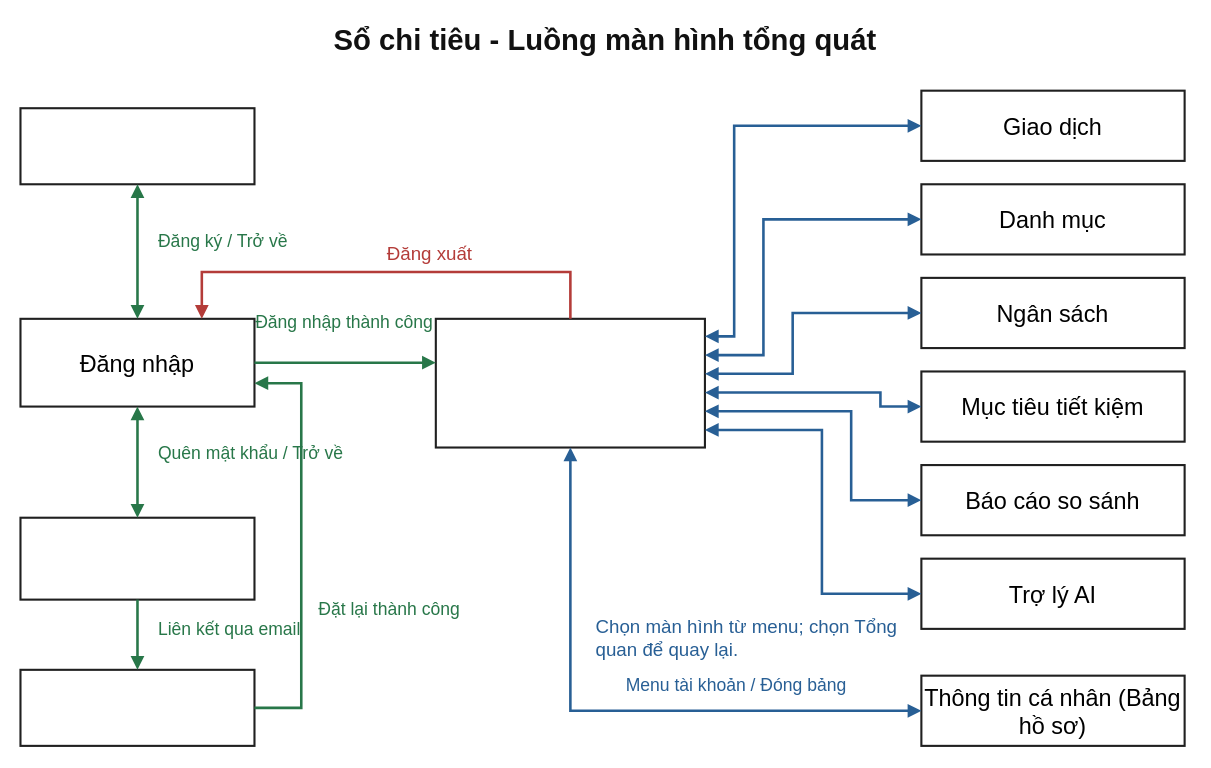
The diagram is 1211 pixels wide and 768 high, and some of its shapes have lost their labels. Here are the shapes that lost their labels. From the top down, the centre of each, then its label:
At (x=137, y=146): "Đăng ký".
At (x=569, y=382): "Dashboard (Màn hình chính)".
At (x=137, y=558): "Quên mật khẩu".
At (x=137, y=707): "Đặt lại mật khẩu".
